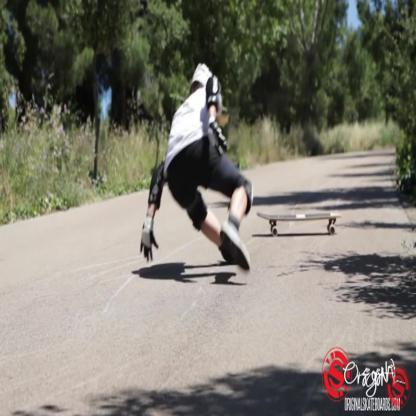Fall_Down: (139, 64, 257, 276)
